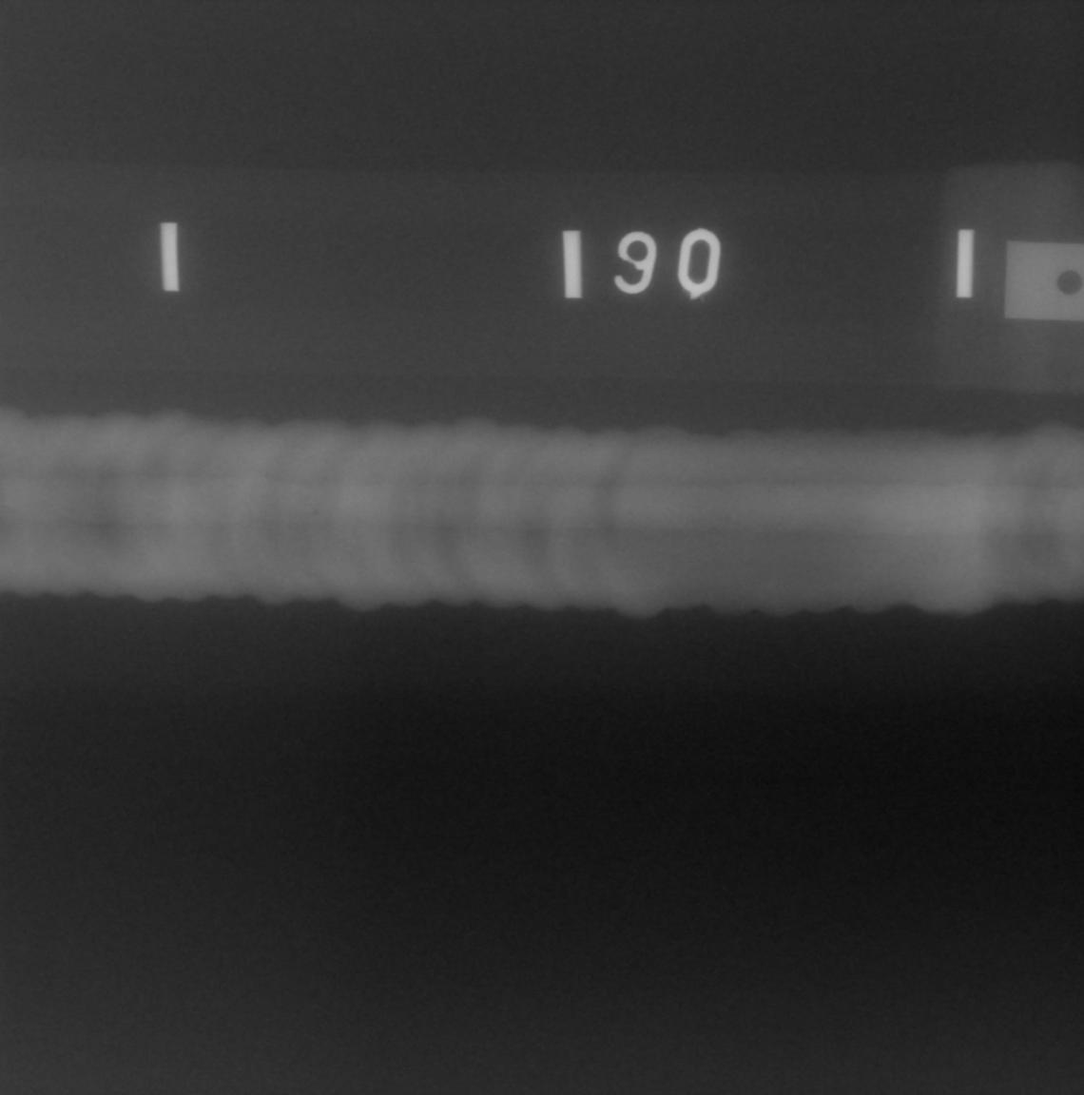Inclusion: (1047, 500, 1056, 505)
Pore/Porosity: (312, 509, 320, 516), (1047, 500, 1055, 504), (995, 529, 1000, 532)
